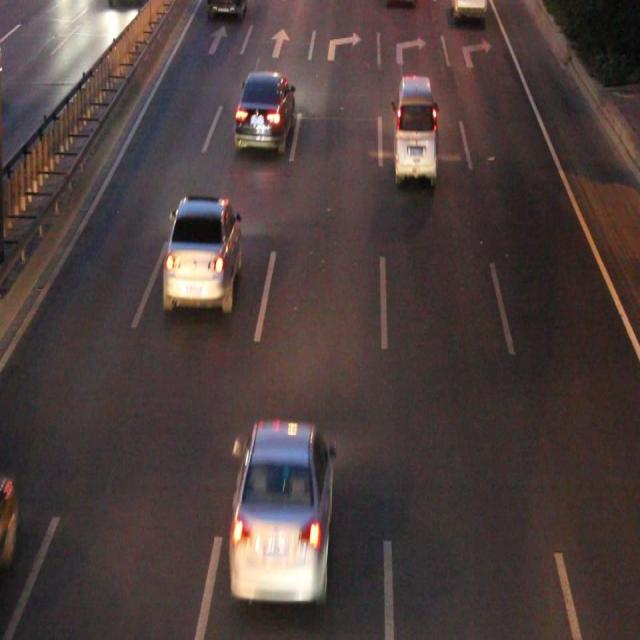car: (233, 424, 329, 596), (163, 199, 239, 304), (235, 73, 292, 147), (0, 472, 16, 582), (208, 1, 244, 18)
truck: (394, 77, 436, 180), (451, 1, 484, 17)
